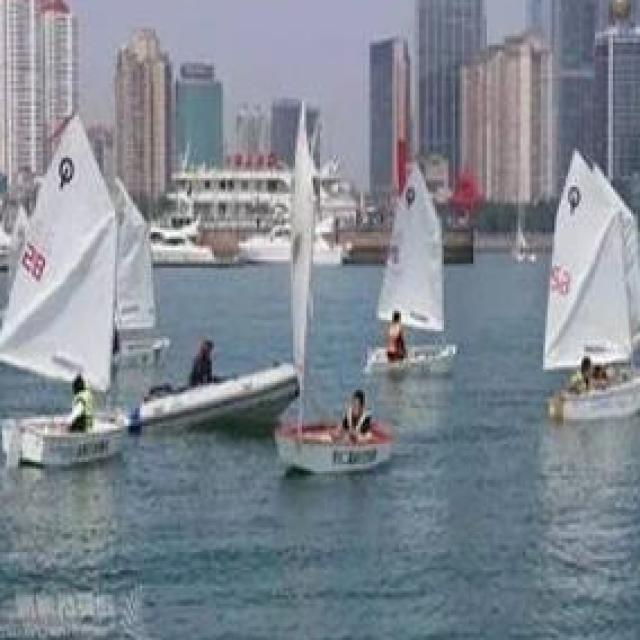houseboat: (135, 340, 301, 431)
sailboat: (265, 92, 391, 477), (0, 104, 126, 466), (536, 138, 640, 422), (360, 163, 463, 375), (114, 175, 172, 368)
